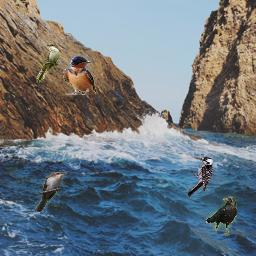Crow: (206, 196, 237, 236)
Cuckoo: (35, 172, 67, 212), (36, 43, 59, 83)
Swallow: (63, 55, 96, 95)
Woodpecker: (188, 157, 214, 197)
